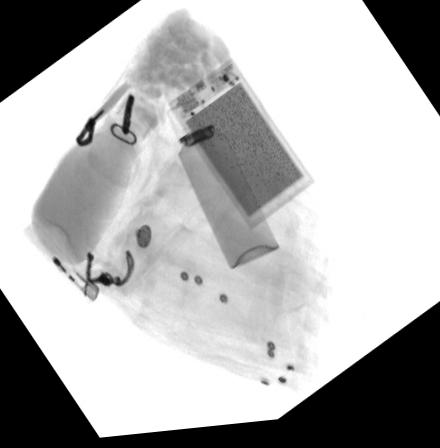Lighter: (23, 223, 98, 304)
Powerbank: (167, 64, 313, 235)
Sprayer: (165, 102, 278, 273)
